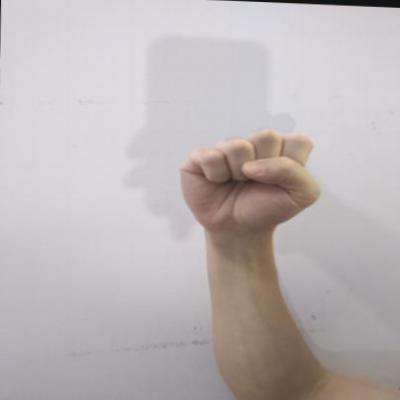hand: (172, 123, 327, 240)
